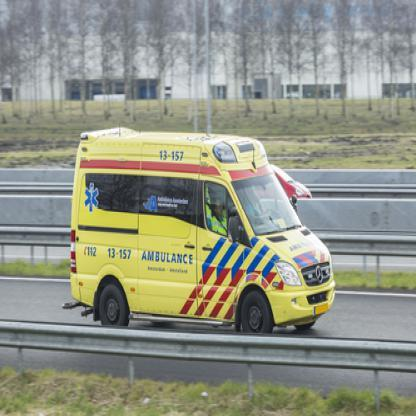Ambulance - v1 Ambulance last generate: (67, 128, 336, 333)
